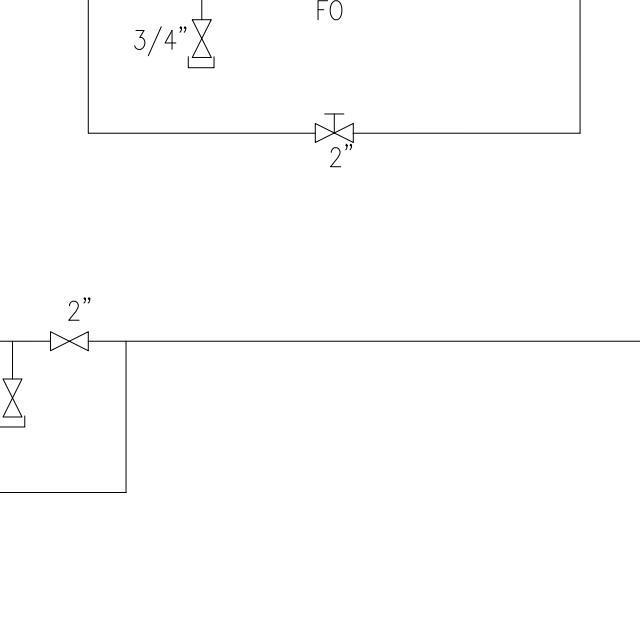EC: (185, 2, 217, 74), (0, 362, 28, 430)
GV: (45, 328, 93, 354), (0, 373, 24, 420), (189, 15, 214, 60)
HV: (312, 108, 357, 146)
